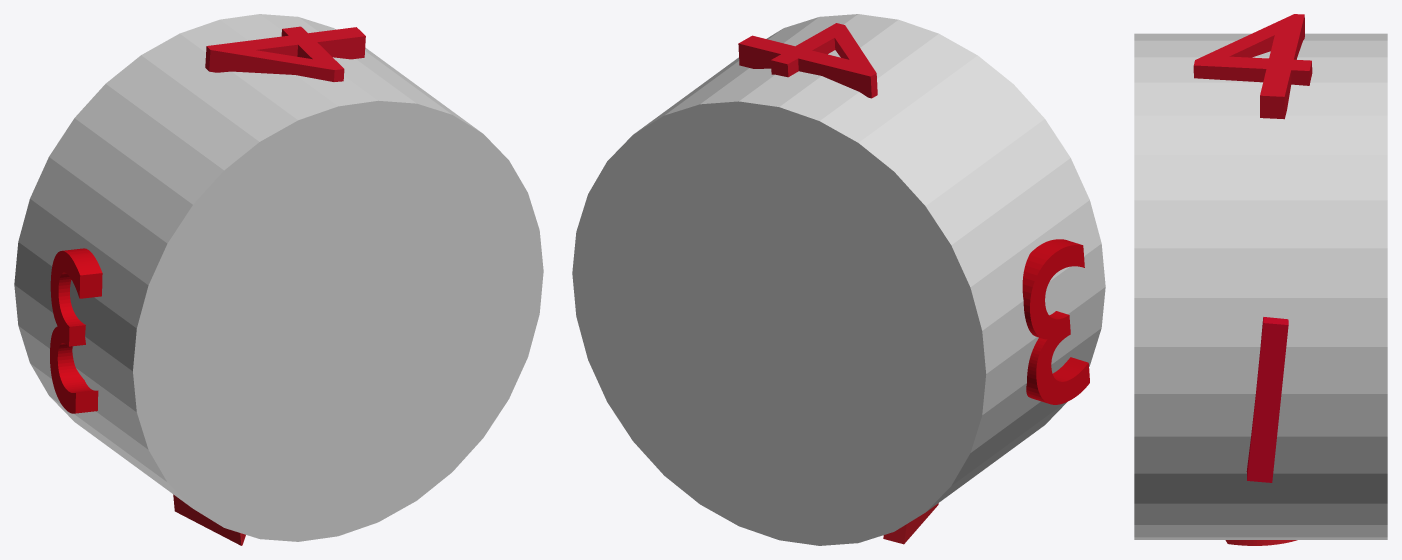
File: Numberslot.fbx
The picture shows the model from 3 angles, left to right: view 1: azimuth 30°, elevation 25°; view 2: azimuth 150°, elevation 25°; view 3: azimuth 270°, elevation 25°; orthographic projection. The views are drawn at different scales.
Visible parts, largest first — view 1: Cylinder, Text.003, Text.002, Text.001; view 2: Cylinder, Text.002, Text.003; view 3: Cylinder, Text.003, Text, Text.001.
Part boxes in pixels (box(x1,y1,x2,y2)): Cylinder: box(14, 14, 543, 541); Text.003: box(205, 26, 365, 81); Text.002: box(50, 248, 102, 413); Text.001: box(173, 494, 245, 545); Cylinder: box(572, 14, 1105, 545); Text.002: box(1022, 239, 1089, 404); Text.003: box(738, 23, 877, 98); Cylinder: box(1134, 33, 1387, 539); Text.003: box(1193, 14, 1312, 119); Text: box(1246, 317, 1288, 482); Text.001: box(1225, 540, 1297, 545).
Bounding box in the file's own units: 213 × 213 × 100.
